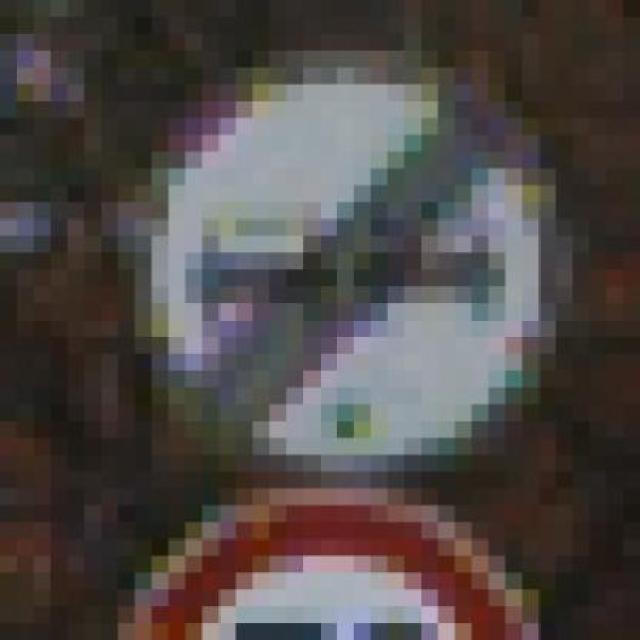No_Over_Taking: (50, 33, 607, 472)
